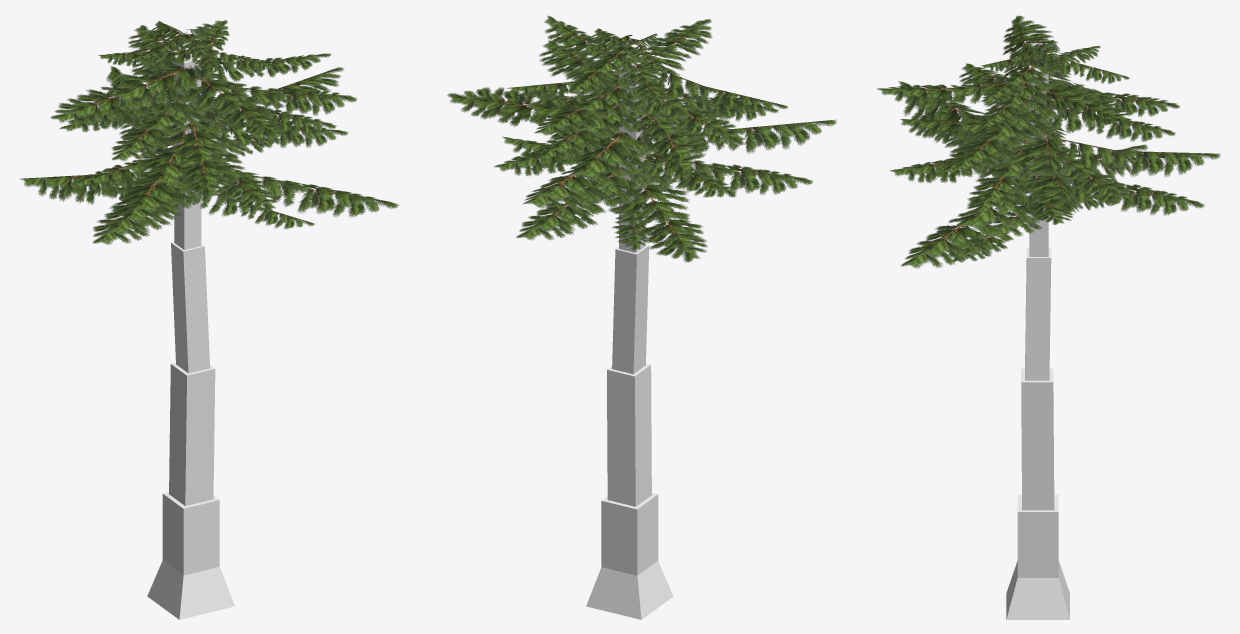
File: PineTree_Prop_Model.glb
The picture shows the model from 3 angles, left to right: view 1: azimuth 30°, elevation 25°; view 2: azimuth 150°, elevation 25°; view 3: azimuth 270°, elevation 25°; orthographic projection.
Visible parts, largest first — view 1: Branches2_Branch_0.001, Куб; view 2: Branches2_Branch_0.001, Куб; view 3: Branches2_Branch_0.001, Куб.
Boxes of the visible parts, box(x1,y1,x2,y2) form: Branches2_Branch_0.001: box(19, 20, 399, 244); Куб: box(147, 53, 234, 619); Branches2_Branch_0.001: box(447, 16, 836, 262); Куб: box(586, 56, 673, 619); Branches2_Branch_0.001: box(877, 15, 1220, 268); Куб: box(1006, 65, 1069, 619).
Bounding box in the file's own units: 7.35 × 11.52 × 6.59.
2 materials, 1 textured.
